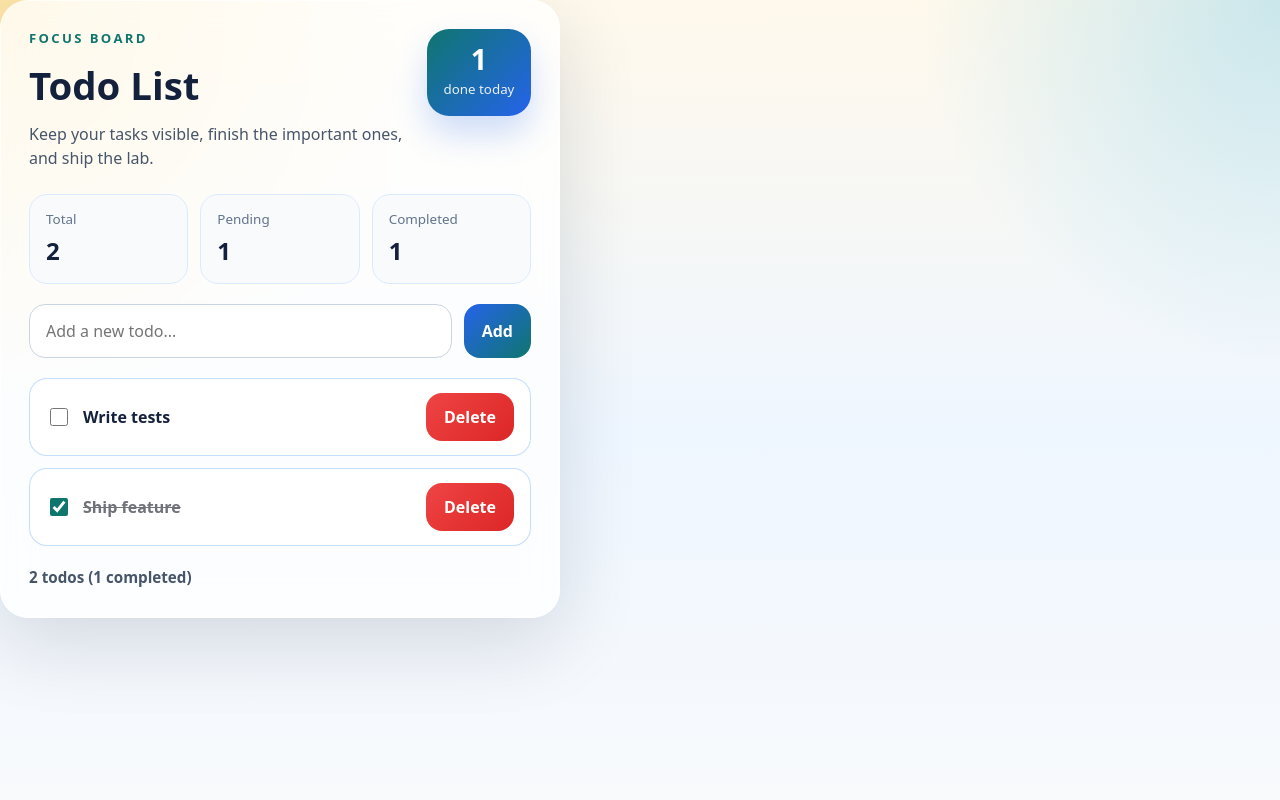
Test: TodoList › deletes the selected todo
The width and height of the screenshot is (1280, 800).
Click the button with test id "delete-button" in the row of "Write tests" at (470, 418), box x1=426 y1=394 x2=514 y2=442
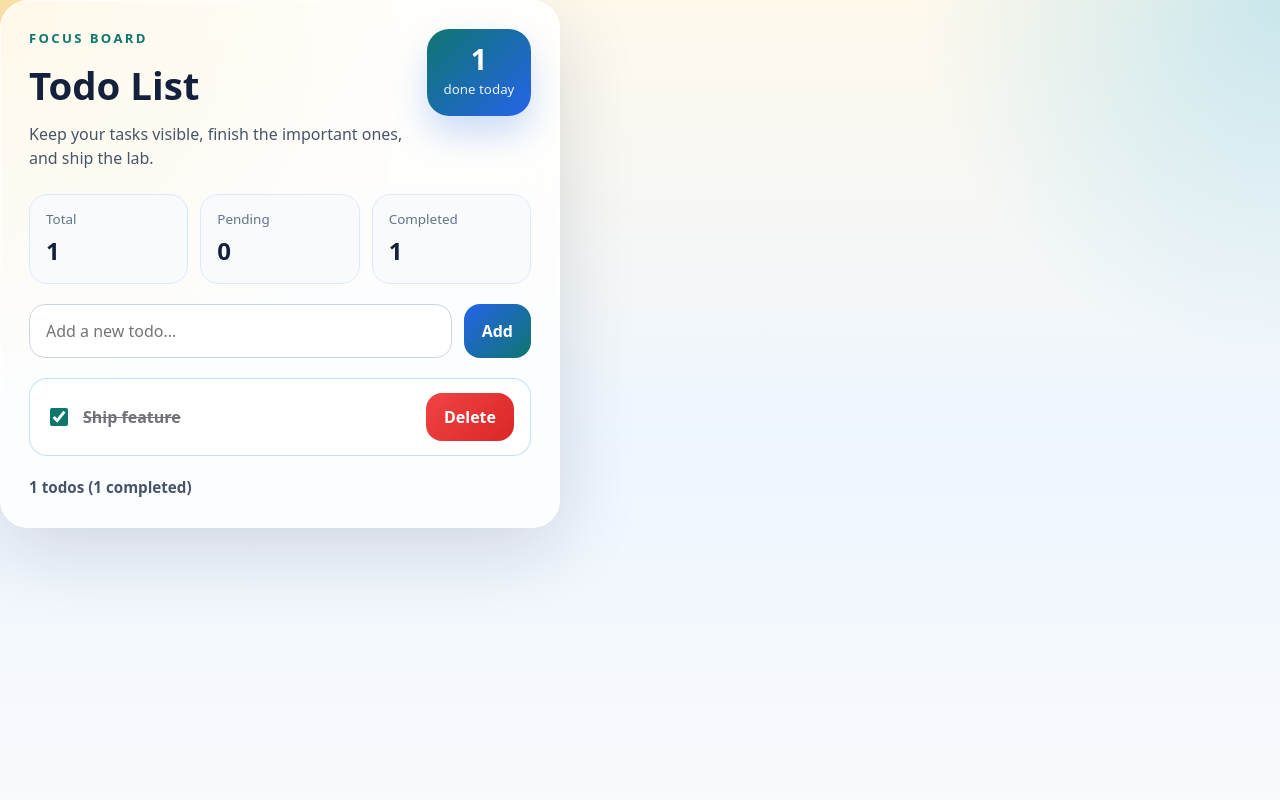
Result: the text "Write tests" is gone
Result: the number of list items with test id "todo-item" is 1 at x1=29 y1=378 x2=531 y2=456
Result: the text with test id "todo-count" reads "1 todos (1 completed)" at x1=29 y1=478 x2=192 y2=498
